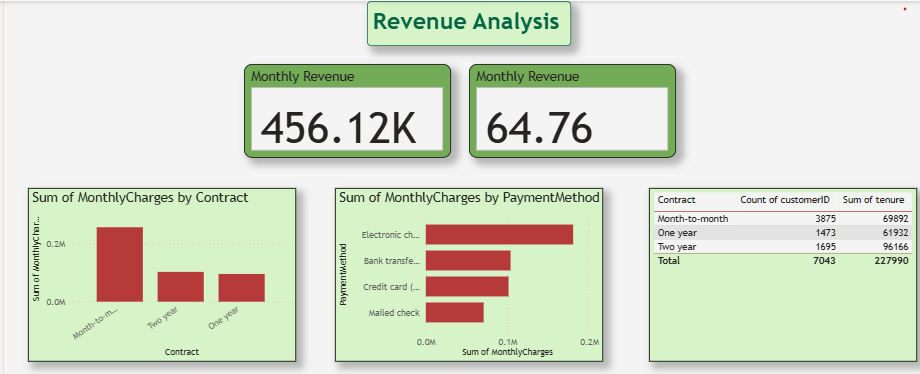

The page's visual inventory and layout, read from the dashboard file:
{"tool":"powerbi","page":{"name":"Revenue Analysis","canvas":[1280,720],"ordinal":3},"visuals":[{"type":"textbox","box":[499.6,0,280.8,61.9],"z":0},{"type":"cardVisual","title":"Monthly Revenue","fields":{"Data":["telco.Monthly Revenue"]},"box":[330.3,86.7,284.9,129.4],"z":1},{"type":"cardVisual","title":"Monthly Revenue","fields":{"Data":["telco.ARPU"]},"box":[640,86.7,284.9,129.4],"z":2},{"type":"columnChart","fields":{"Category":["telco.Contract"],"Y":["Sum(telco.MonthlyCharges)"]},"box":[33,257.4,368.9,239.5],"z":3},{"type":"barChart","fields":{"Category":["telco.PaymentMethod"],"Y":["Sum(telco.MonthlyCharges)"]},"box":[455.6,257.4,368.9,239.5],"z":4},{"type":"tableEx","fields":{"Values":["telco.Contract","telco.customerID","Sum(telco.tenure)"]},"box":[887.7,257.4,368.9,239.5],"z":5}]}

Visuals, with their boxes on the page's 1280x720 design canvas (x1, y1, x2, y2). These are canvas units, not pixel positions in the 920x374 screenshot, which may show the page scaled, cropped or inside an application window:
textbox: 500, 0, 780, 62
"Monthly Revenue" cardVisual: 330, 87, 615, 216
"Monthly Revenue" cardVisual: 640, 87, 925, 216
columnChart - telco.Contract x Sum(telco.MonthlyCharges): 33, 257, 402, 497
barChart - telco.PaymentMethod x Sum(telco.MonthlyCharges): 456, 257, 824, 497
tableEx - telco.Contract x telco.customerID: 888, 257, 1257, 497
